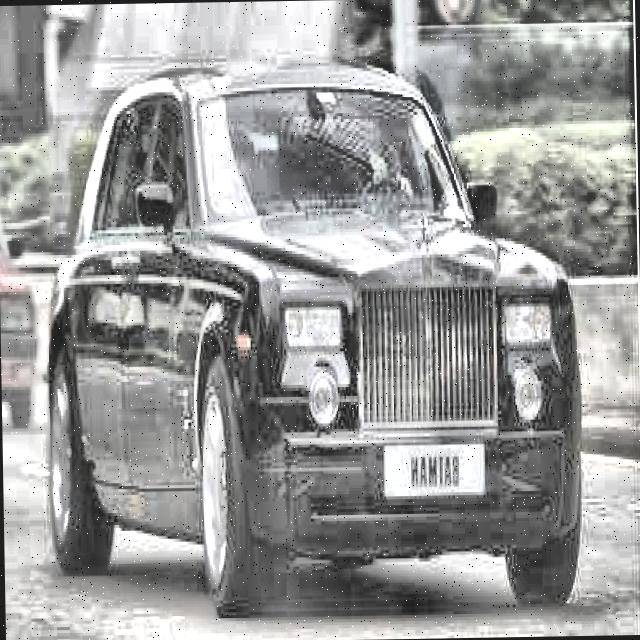license_plate: (386, 439, 483, 496)
